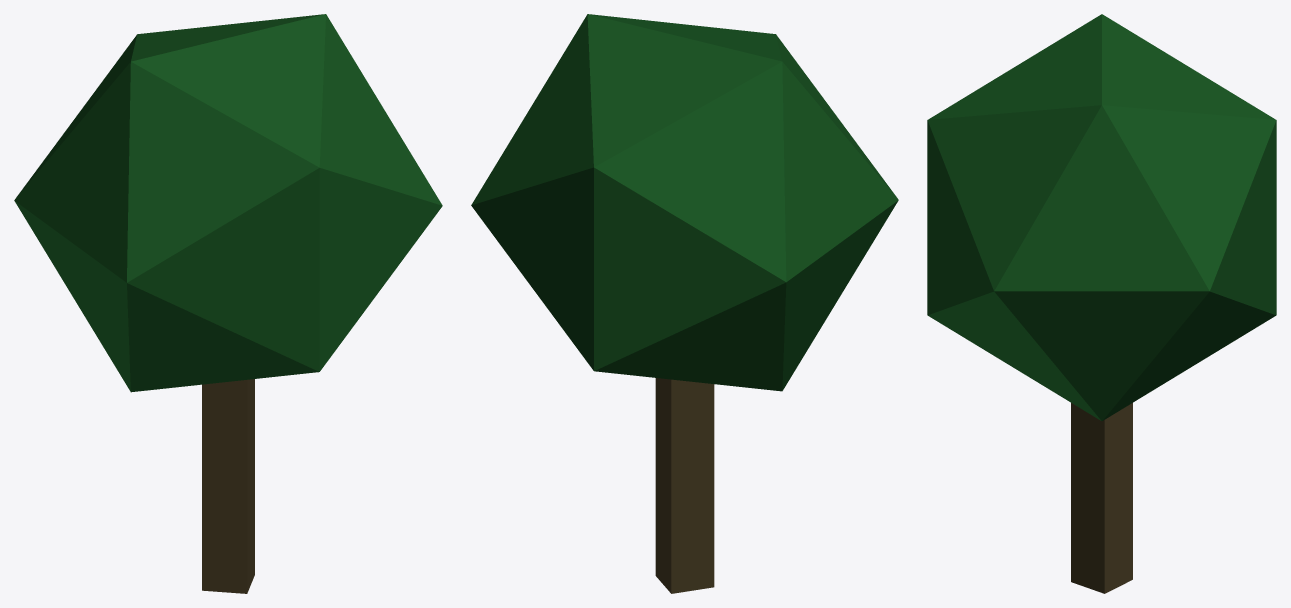
The model's file is tree_oak_1.fbx.
3 renders of one model, left to right at view 1: azimuth 30°, elevation 25°; view 2: azimuth 150°, elevation 25°; view 3: azimuth 270°, elevation 25°, orthographic. The views are drawn at different scales.
Parts seen in each view (by area): view 1: tree_oak; view 2: tree_oak; view 3: tree_oak.
Boxes of the visible parts, x1,y1,x2,y2 form: tree_oak: (14, 14, 442, 593); tree_oak: (471, 14, 898, 593); tree_oak: (927, 14, 1276, 593).
Bounding box in the file's own units: 53.46 × 88.11 × 53.46.
